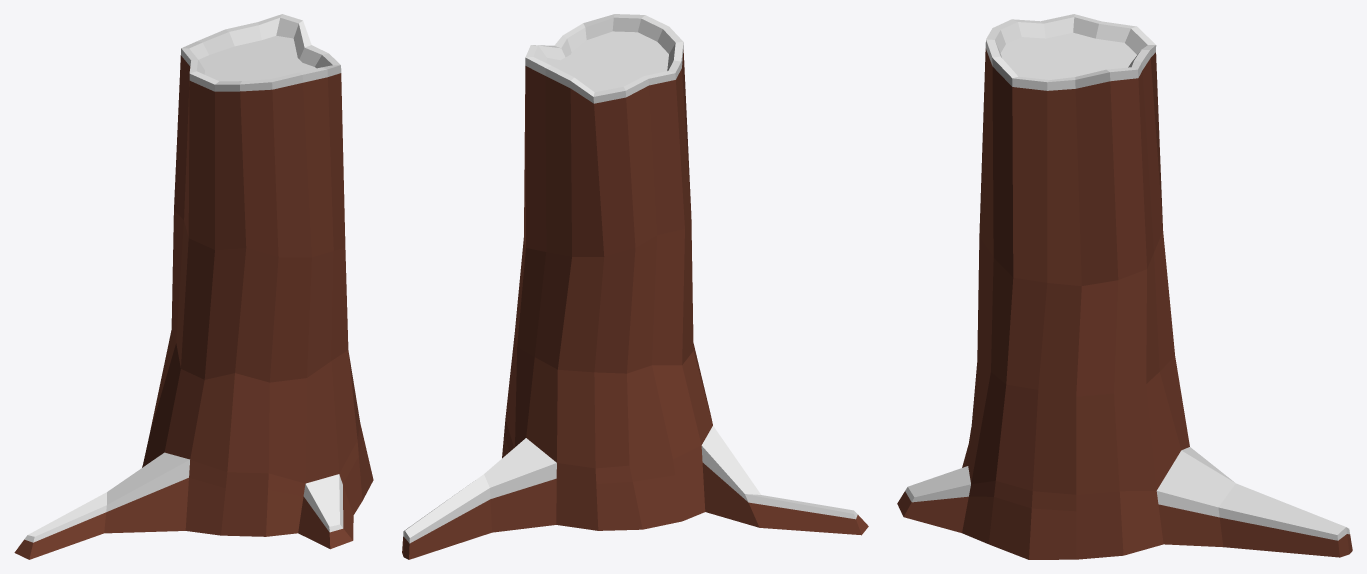
The model's file is pine_trunk_type_6_extra_LOD0.fbx.
3 renders of one model, left to right at view 1: azimuth 30°, elevation 25°; view 2: azimuth 150°, elevation 25°; view 3: azimuth 270°, elevation 25°, orthographic. The views are drawn at different scales.
Visible parts, largest first — view 1: pt_type_6.002; view 2: pt_type_6.002; view 3: pt_type_6.002.
Boxes of the visible parts, bbox=[...] form: pt_type_6.002: bbox=[14, 14, 373, 559]; pt_type_6.002: bbox=[402, 14, 868, 559]; pt_type_6.002: bbox=[897, 14, 1352, 559].
Size of the model in its own units: 345 by 424 by 368.
